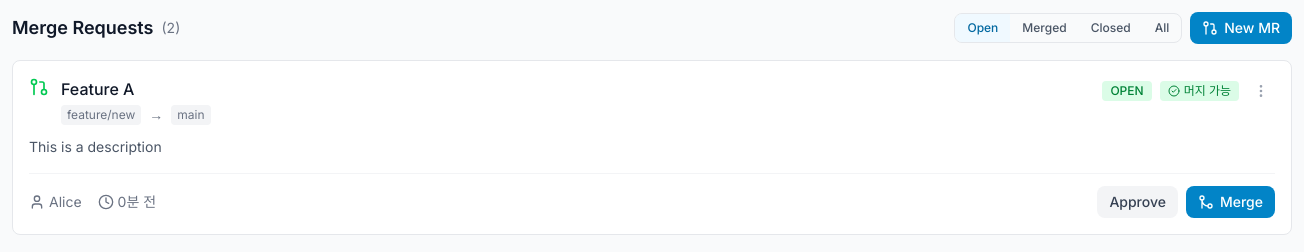
Test: MergeRequestList › shows merged MRs when "Merged" filter is selected
The width and height of the screenshot is (1304, 252).
Click the button "Merged".
click(1044, 28)  # box [1010, 14, 1079, 42]
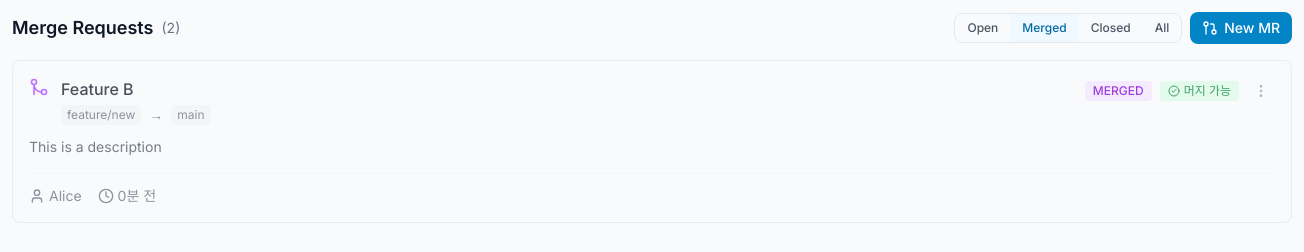
Result: the heading "Feature A" is gone
Result: the heading "Feature B" is shown at [61, 79, 134, 99]
